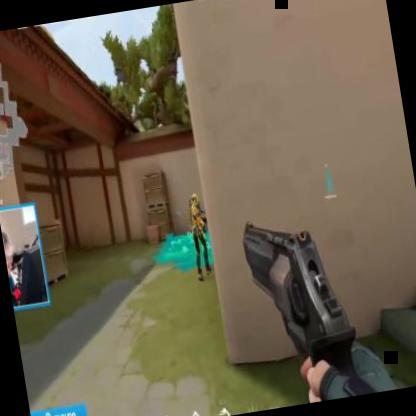enemy: (182, 189, 216, 281)
enemy_head: (190, 192, 198, 206)
